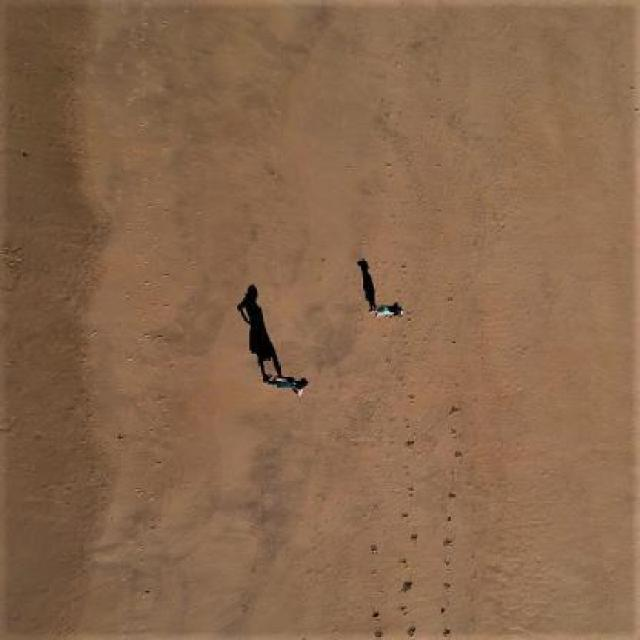Person: (254, 362, 311, 398), (362, 296, 403, 326)
